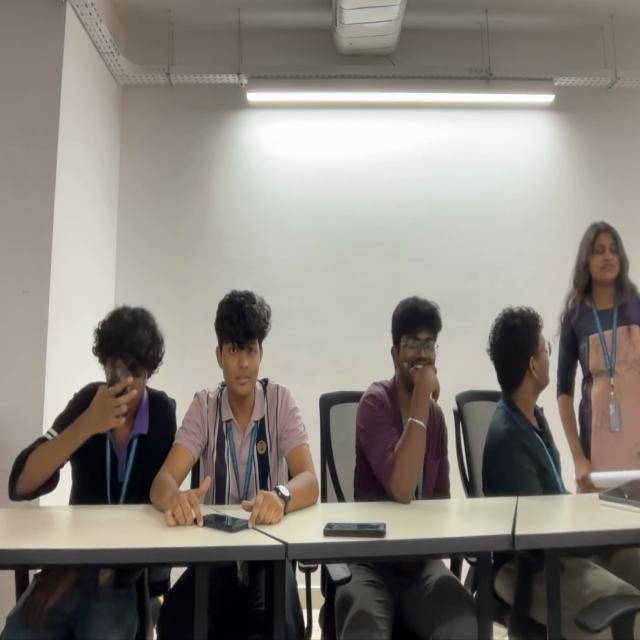Isolated: (357, 302, 449, 501)
socializing: (12, 285, 319, 516), (485, 222, 640, 496)
